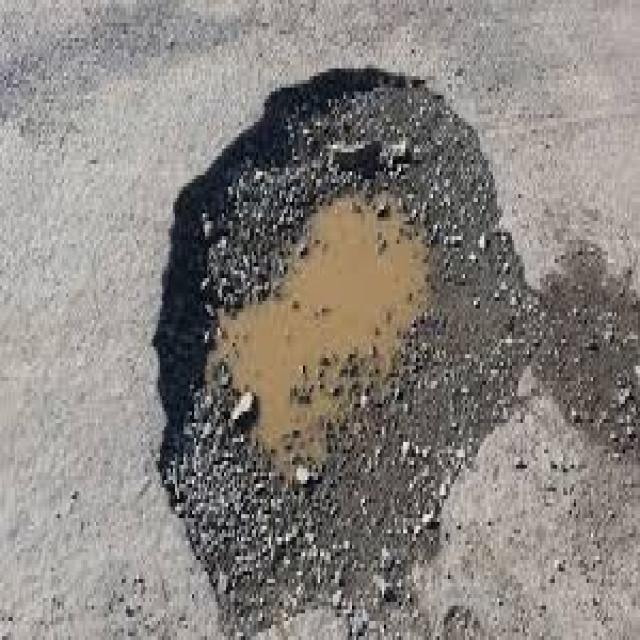Pothole: (144, 60, 533, 639)
